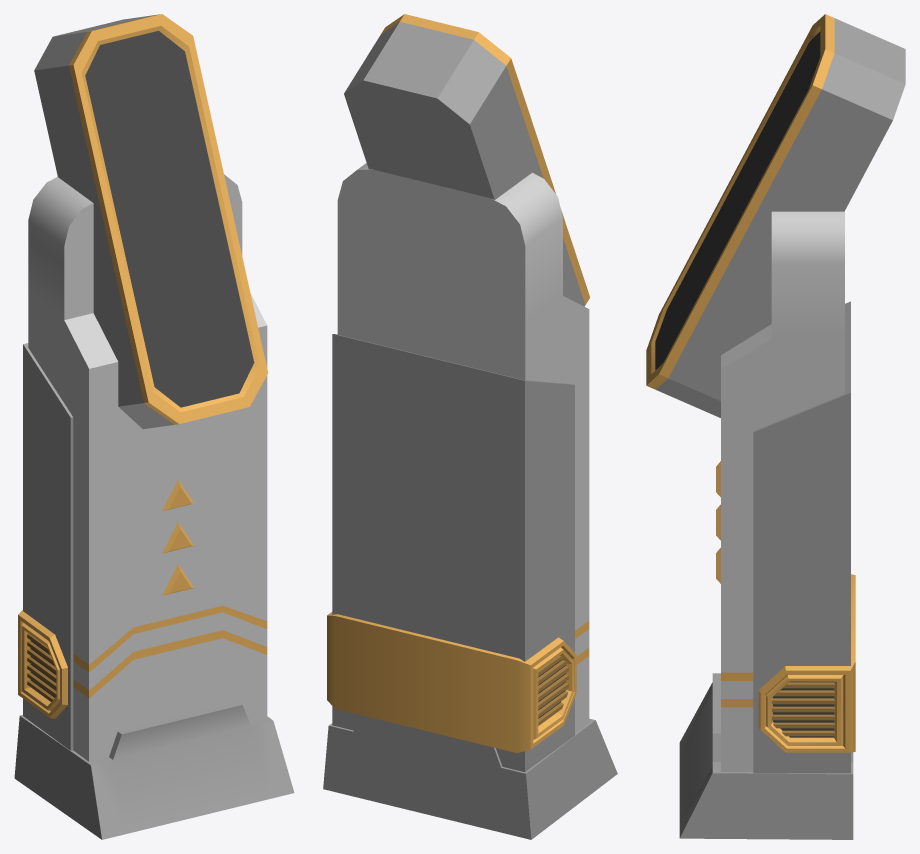
File: sf_computer.glb
The picture shows the model from 3 angles, left to right: view 1: azimuth 30°, elevation 25°; view 2: azimuth 150°, elevation 25°; view 3: azimuth 270°, elevation 25°; orthographic projection. The views are drawn at different scales.
Parts seen in each view (by area): view 1: Props_Computer; view 2: Props_Computer; view 3: Props_Computer.
Part boxes in pixels (<box>): Props_Computer: <box>14,14,294,839</box>; Props_Computer: <box>323,14,617,839</box>; Props_Computer: <box>646,14,905,839</box>.
Size of the model in its own units: 0.5804 by 2.08 by 0.6441.
